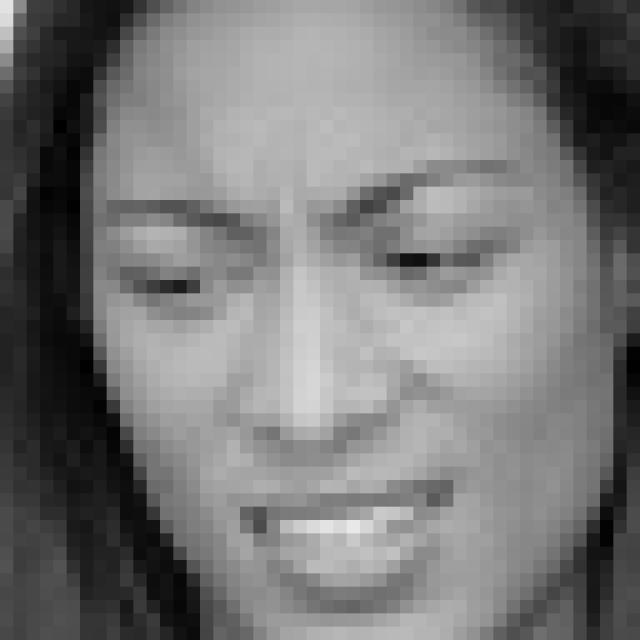disgust: (108, 135, 534, 626)
